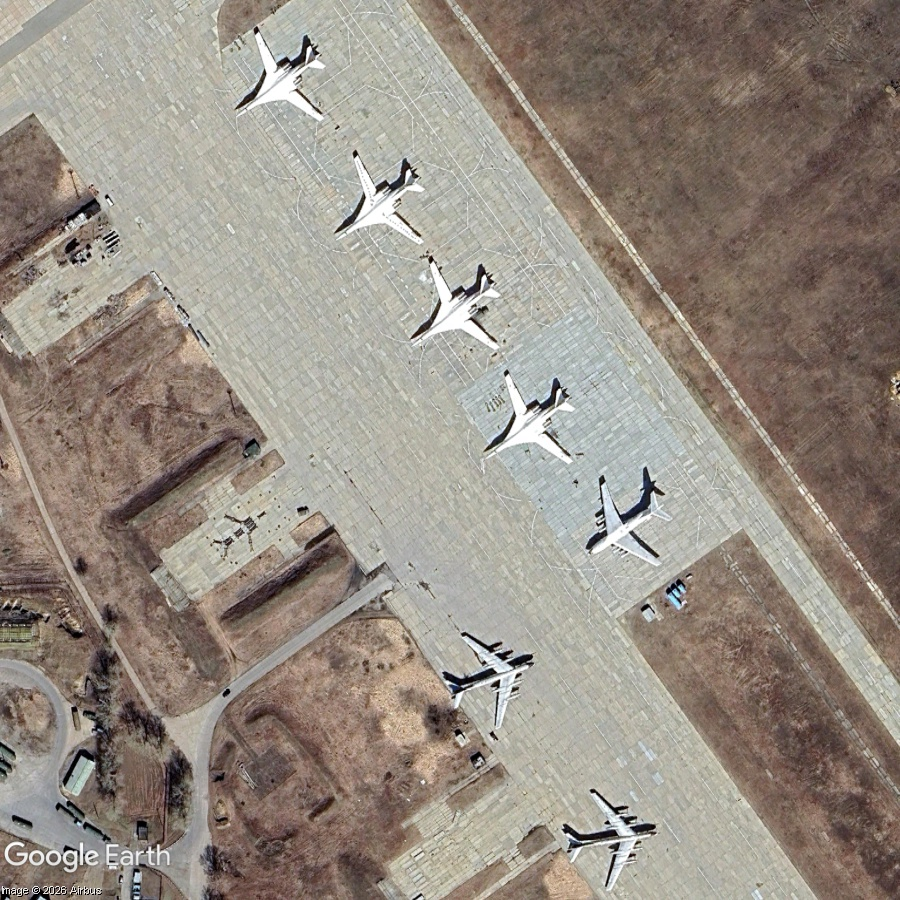Máy bay ném bom: (295, 124, 458, 287), (195, 0, 358, 163), (448, 348, 605, 506), (375, 237, 532, 394), (425, 610, 556, 746), (552, 777, 670, 900)
Máy bay vận tải/Tiếp dầu: (554, 456, 695, 599)
